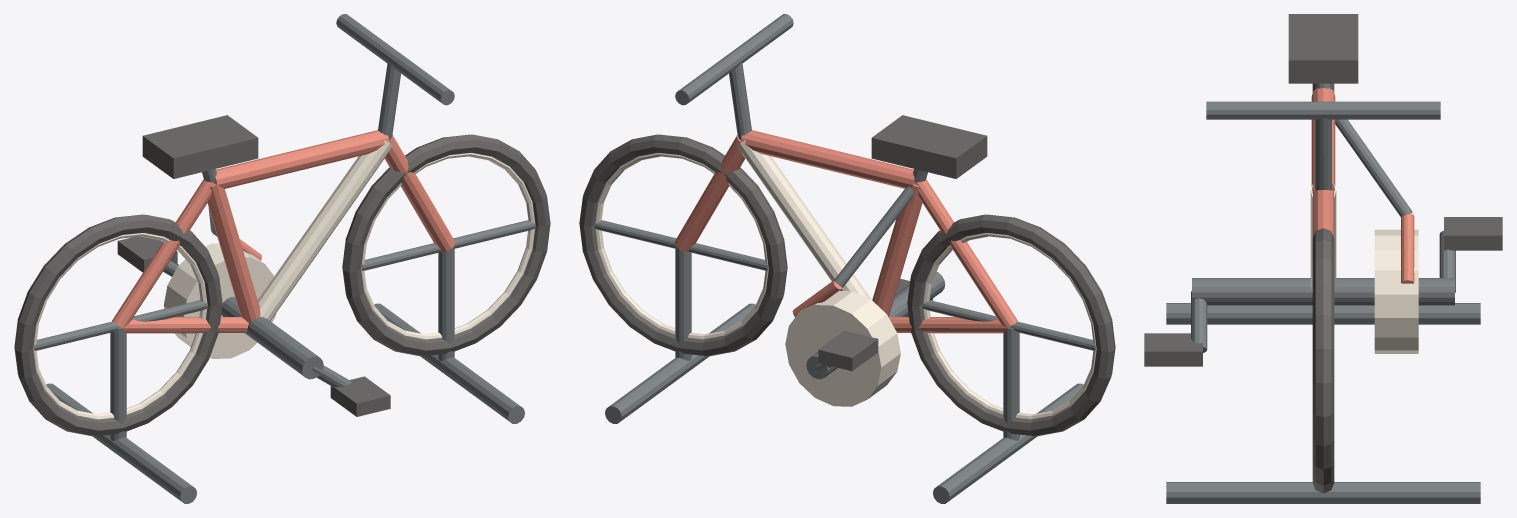
The model's file is invention-test.glb.
3 renders of one model, left to right at view 1: azimuth 30°, elevation 25°; view 2: azimuth 150°, elevation 25°; view 3: azimuth 270°, elevation 25°, orthographic. The views are drawn at different scales.
Parts seen in each view (by area): view 1: rearTire, frontTire, saddle, downTube, tinDrum, topTube, seatTube, frontRim, rearRim, seatStay, frontStandFoot, rearStandFoot (+11 smaller); view 2: rearTire, frontTire, tinDrum, saddle, downTube, topTube, frontRim, rearRim, seatStay, rearStandFoot, frontStandFoot, seatTube (+11 smaller); view 3: frontStandFoot, frontTire, crankAxle, saddle, tinDrum, rearStandFoot, handlebar, rightPedal, leftPedal, beaterBracket, handlebarStem, springBeater (+5 smaller).
Part boxes in pixels (x1,y1,x2,y2): rearTire: (14, 214, 222, 436); frontTire: (342, 134, 550, 356); saddle: (142, 115, 258, 178); downTube: (257, 140, 392, 320); tinDrum: (163, 243, 276, 358); topTube: (215, 130, 389, 188); seatTube: (207, 184, 260, 322); frontRim: (361, 153, 535, 340); rearRim: (33, 233, 207, 420); seatStay: (112, 179, 215, 328); frontStandFoot: (374, 303, 524, 423); rearStandFoot: (46, 383, 196, 503); rearTire: (907, 214, 1115, 436); frontTire: (579, 134, 787, 356); tinDrum: (785, 290, 900, 406); saddle: (871, 115, 987, 178); downTube: (737, 140, 871, 299); topTube: (740, 130, 914, 188); frontRim: (594, 153, 768, 340); rearRim: (922, 233, 1096, 420); seatStay: (914, 179, 1017, 328); rearStandFoot: (933, 383, 1083, 503); frontStandFoot: (605, 303, 755, 423); seatTube: (872, 184, 922, 316); frontStandFoot: (1166, 482, 1480, 503); frontTire: (1312, 228, 1334, 493); crankAxle: (1192, 278, 1454, 305); saddle: (1288, 14, 1358, 83); tinDrum: (1374, 229, 1418, 353); rearStandFoot: (1166, 303, 1480, 324); handlebar: (1206, 101, 1440, 119); rightPedal: (1444, 217, 1502, 250); leftPedal: (1144, 333, 1202, 366); beaterBracket: (1335, 119, 1412, 217); handlebarStem: (1315, 118, 1331, 190); springBeater: (1401, 213, 1414, 283).
Bounding box in the file's own units: 1.89 × 1.13 × 0.98.
